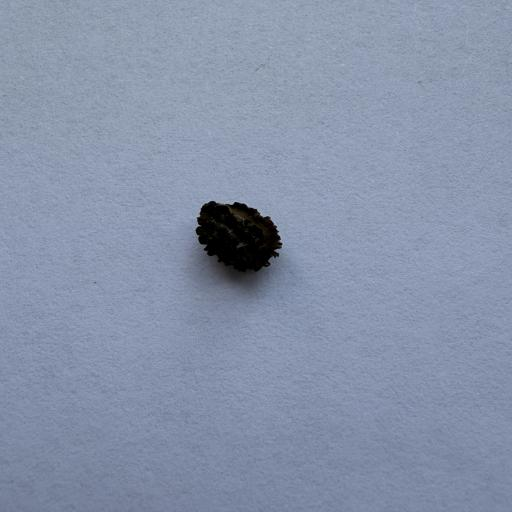papaya_seed: (198, 198, 302, 285)
